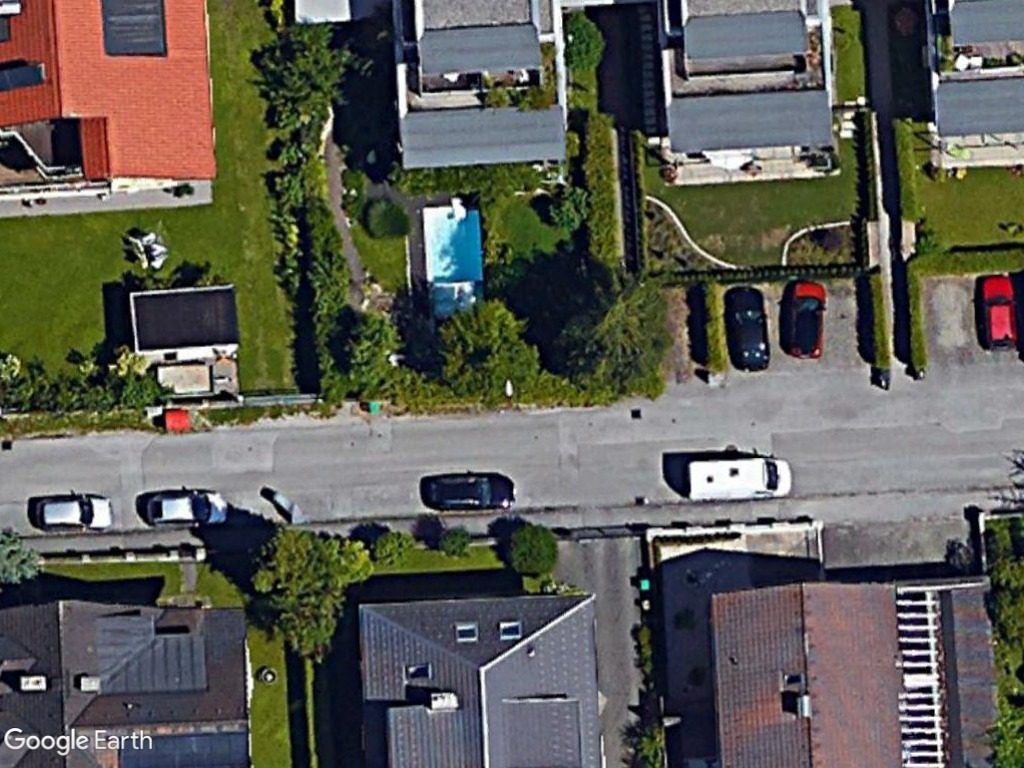car: (420, 470, 522, 515), (974, 270, 1024, 359), (724, 281, 772, 372), (140, 487, 232, 532), (26, 492, 118, 537)
van: (682, 454, 797, 505)
